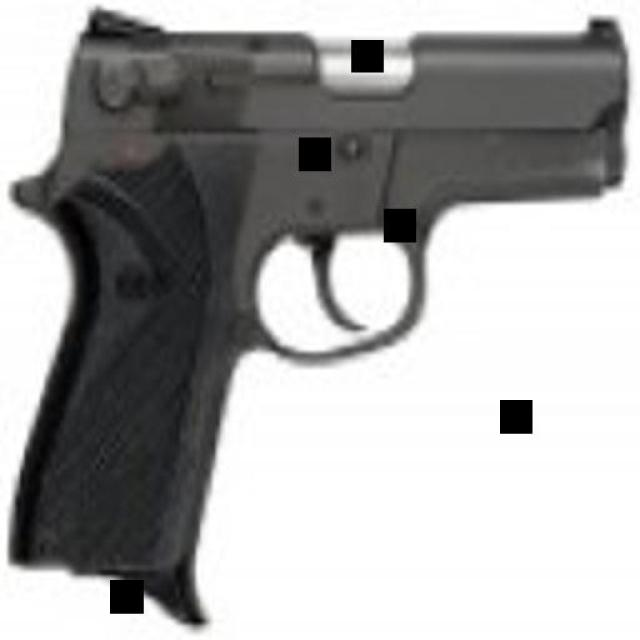gun: (2, 9, 630, 611)
